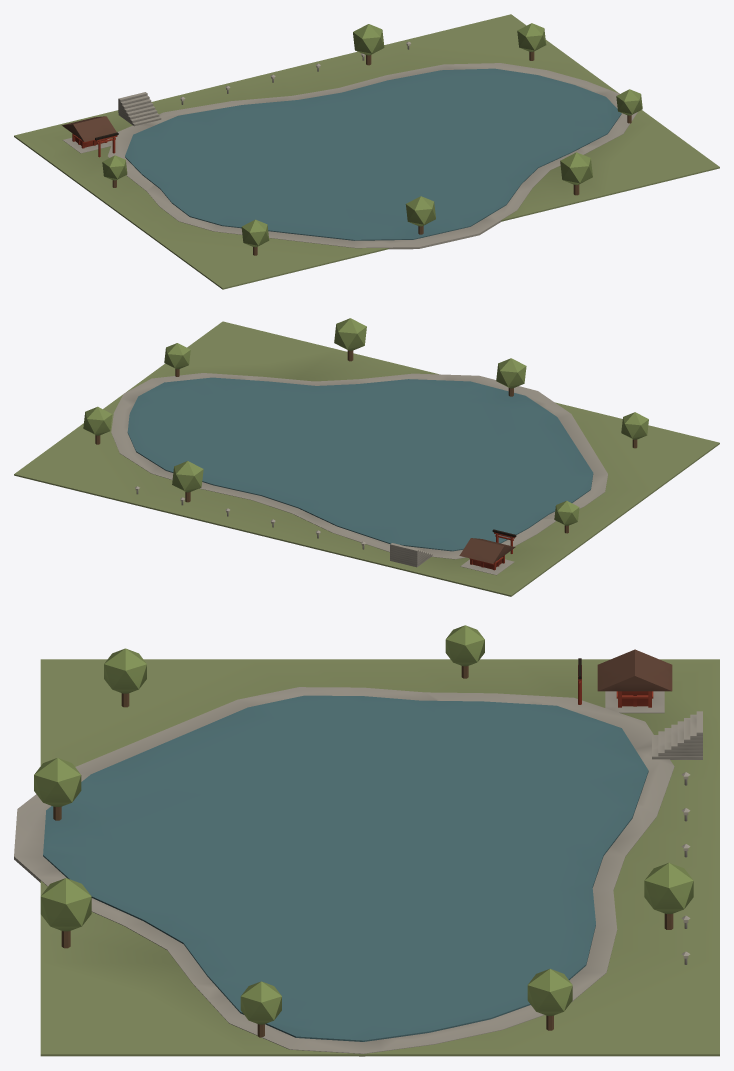
File: sarusawa.glb
3 views of the same model, one above another, from view 1: azimuth 30°, elevation 25°; view 2: azimuth 150°, elevation 25°; view 3: azimuth 270°, elevation 25° (orthographic). The views are drawn at different scales.
Parts seen in each view (by area): view 1: p0_grounds, p1_halls, p2_roofs; view 2: p0_grounds, p1_halls, p2_roofs; view 3: p0_grounds, p1_halls, p2_roofs.
Part boxes in pixels (bbox=[...]): p0_grounds: bbox=[14, 14, 719, 289]; p1_halls: bbox=[63, 23, 642, 255]; p2_roofs: bbox=[62, 41, 410, 141]; p0_grounds: bbox=[14, 321, 719, 596]; p1_halls: bbox=[83, 318, 648, 575]; p2_roofs: bbox=[135, 486, 515, 563]; p0_grounds: bbox=[14, 659, 719, 1056]; p1_halls: bbox=[34, 625, 702, 1037]; p2_roofs: bbox=[597, 649, 690, 964].
Size of the model in its own units: 110 by 9.25 by 83.14.
